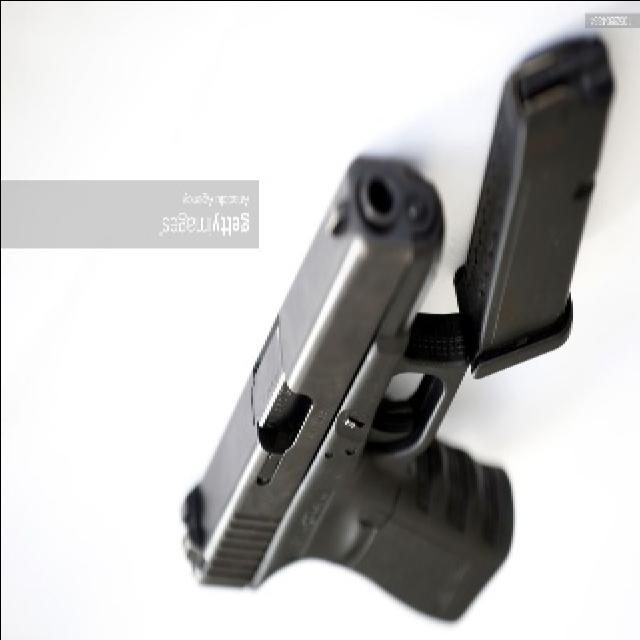handgun: (181, 161, 527, 633)
